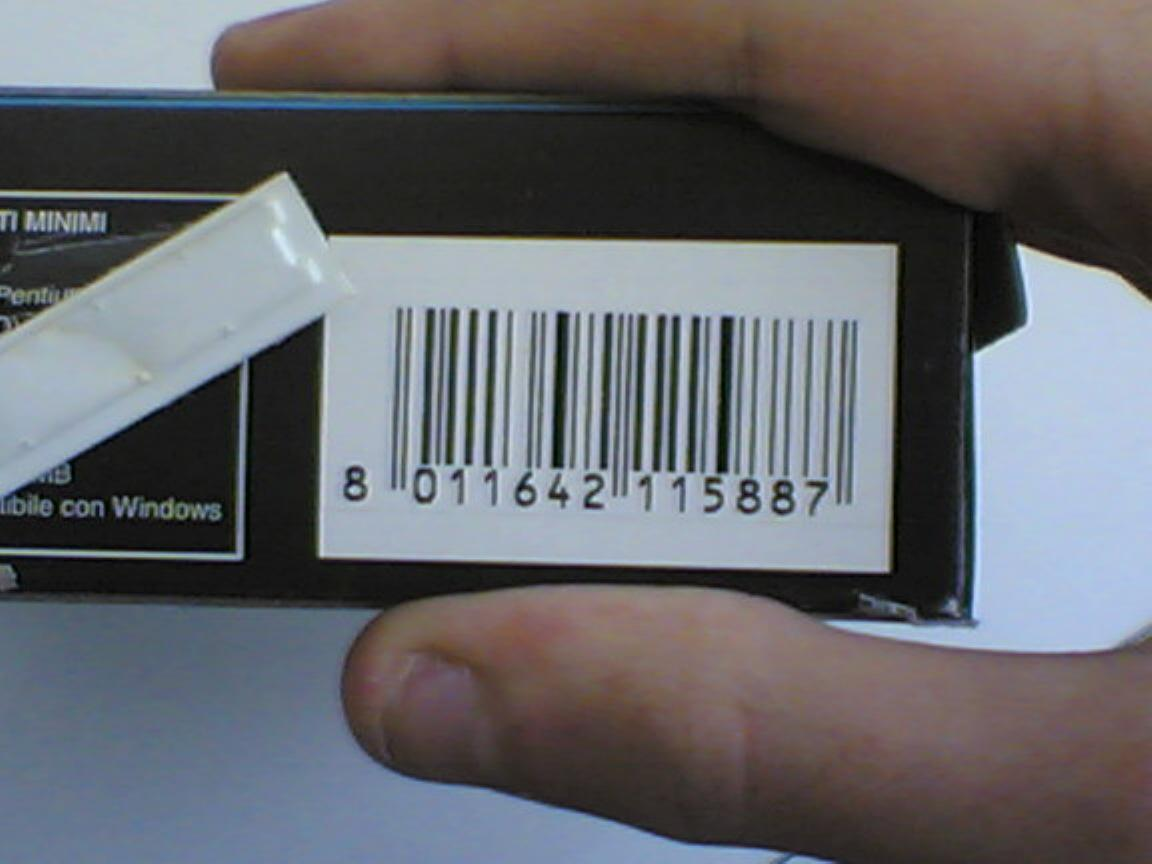Barcode: (318, 235, 899, 564)
